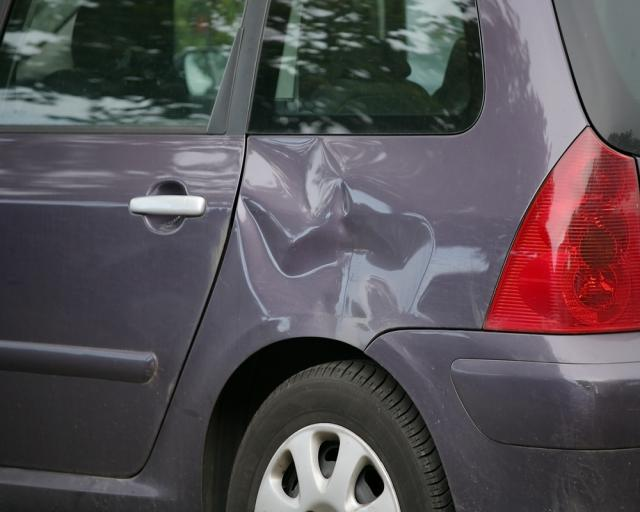dent: (239, 137, 433, 350)
